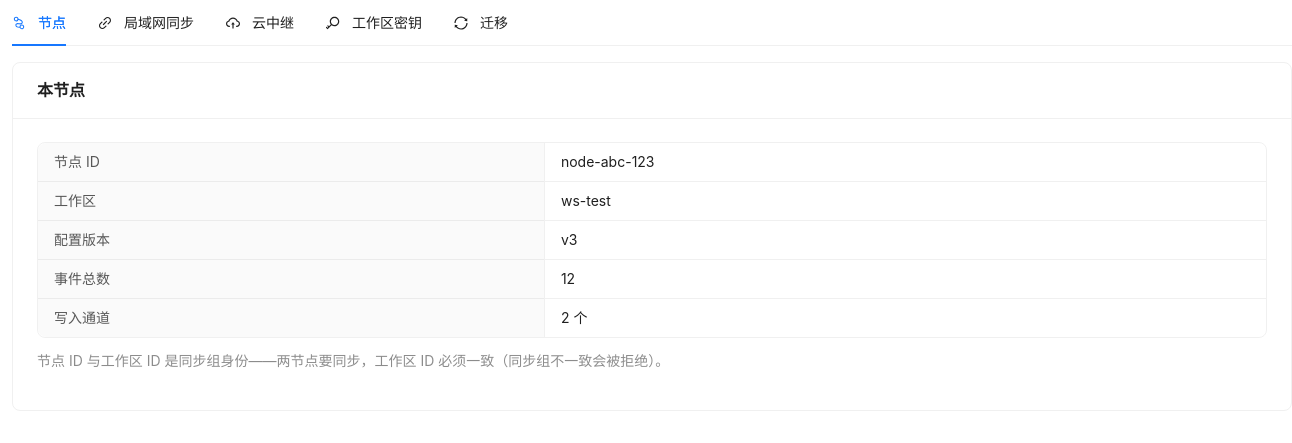
Test: 工作区密钥 › 已有密钥态：指纹展示 + 生成/导入禁用（换钥 = 存量密文不可解）
The image size is (1292, 443).
Click the tab "工作区密钥" at (374, 23), box [326, 12, 422, 34]
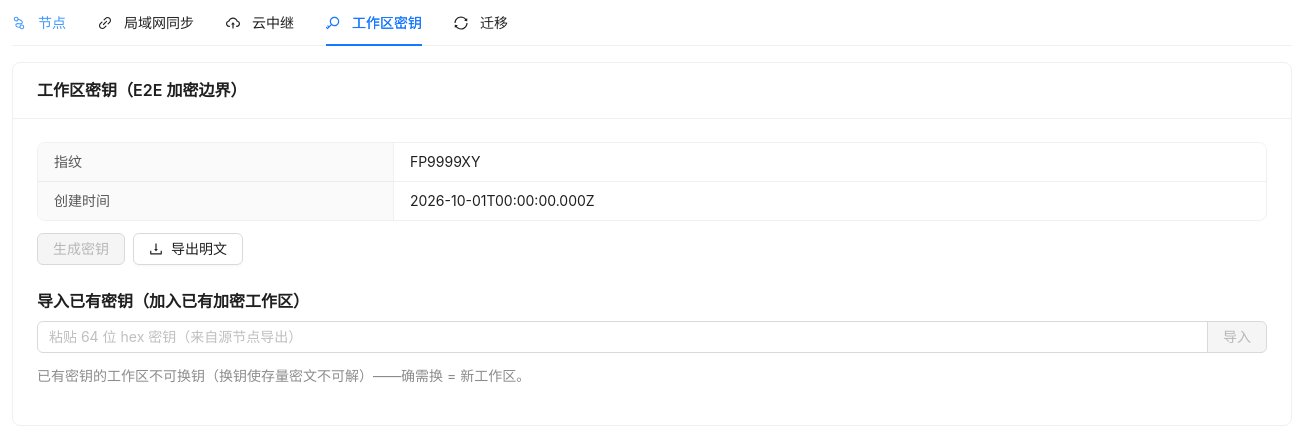
Check: the text "FP9999XY" is shown, box [410, 153, 480, 170]
Check: the button "生成密钥" is disabled, box [37, 233, 125, 265]
Check: the button "导入" is disabled, box [1207, 321, 1267, 353]
